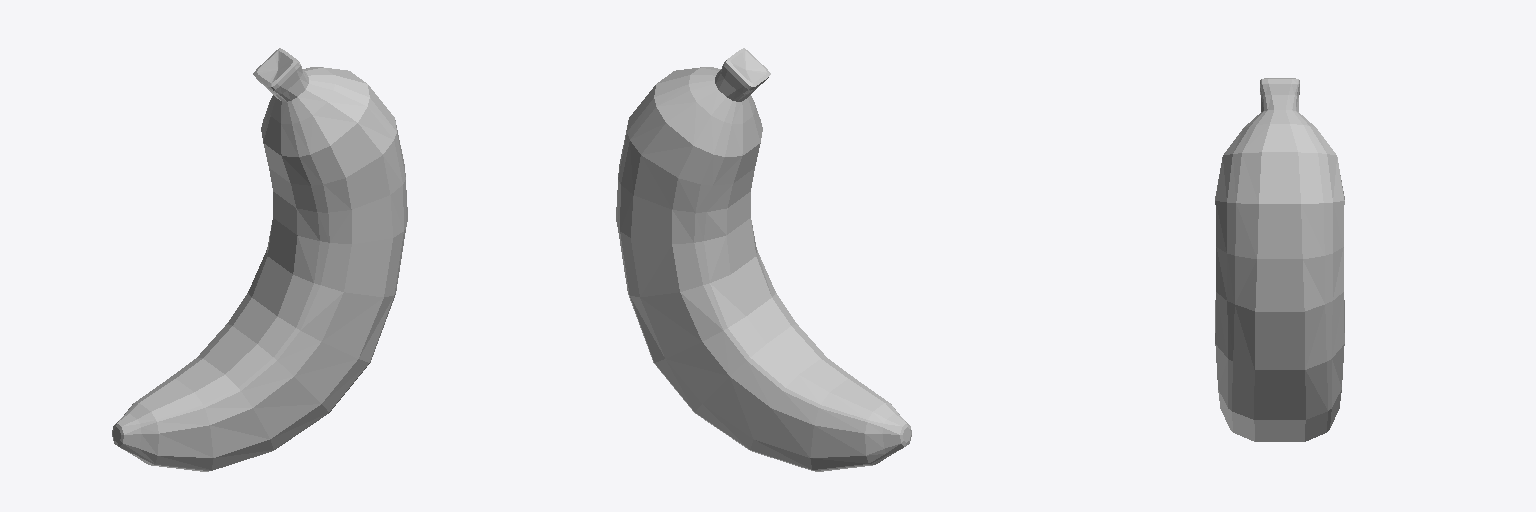
File: Banana.obj
3 views of the same model, side by side, from view 1: azimuth 30°, elevation 25°; view 2: azimuth 150°, elevation 25°; view 3: azimuth 270°, elevation 25° (orthographic).
Parts seen in each view (by area): view 1: Banana; view 2: Banana; view 3: Banana.
Part boxes in pixels (x1,y1,x2,y2): Banana: (112, 48, 407, 471); Banana: (616, 48, 911, 471); Banana: (1215, 78, 1344, 441).
Bounding box in the file's own units: 5.54 × 7.33 × 2.21.